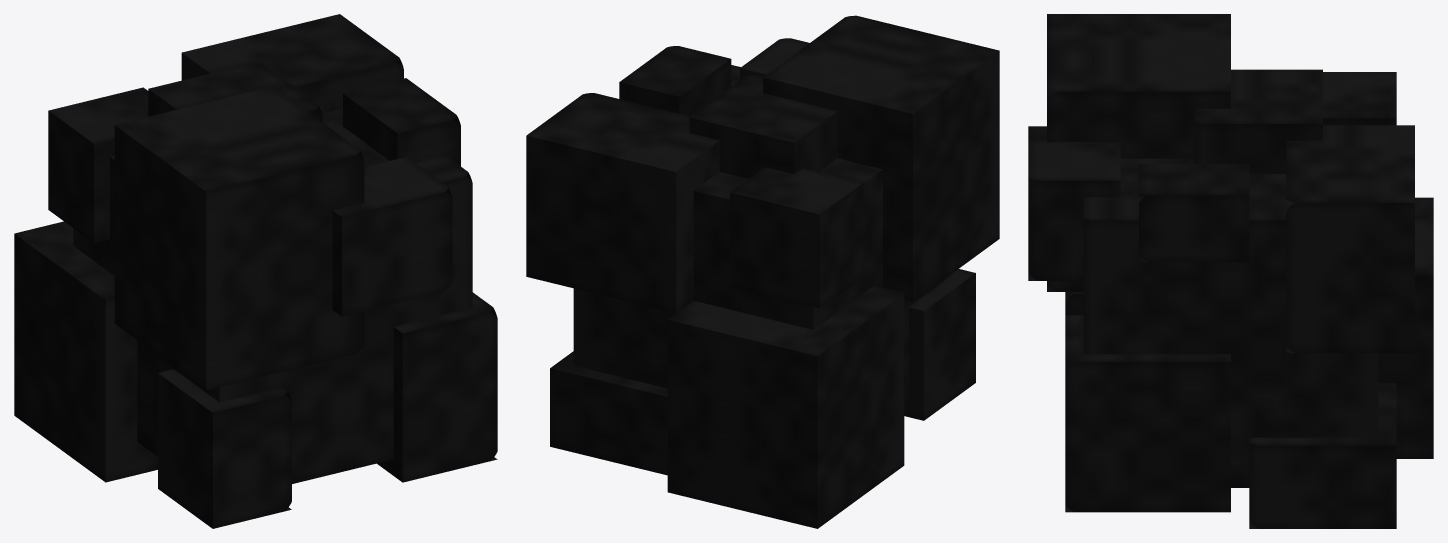
The model's file is DarkMatterBlock.obj.
3 views of the same model, side by side, from view 1: azimuth 30°, elevation 25°; view 2: azimuth 150°, elevation 25°; view 3: azimuth 270°, elevation 25° (orthographic). The views are drawn at different scales.
Parts seen in each view (by area): view 1: cube; view 2: cube; view 3: cube.
Part boxes in pixels (<box>): cube: <box>14,14,497,528</box>; cube: <box>526,15,999,528</box>; cube: <box>1028,14,1433,528</box>.
Bounding box in the file's own units: 1.25 × 1.38 × 1.38.
1 material, 1 textured.
